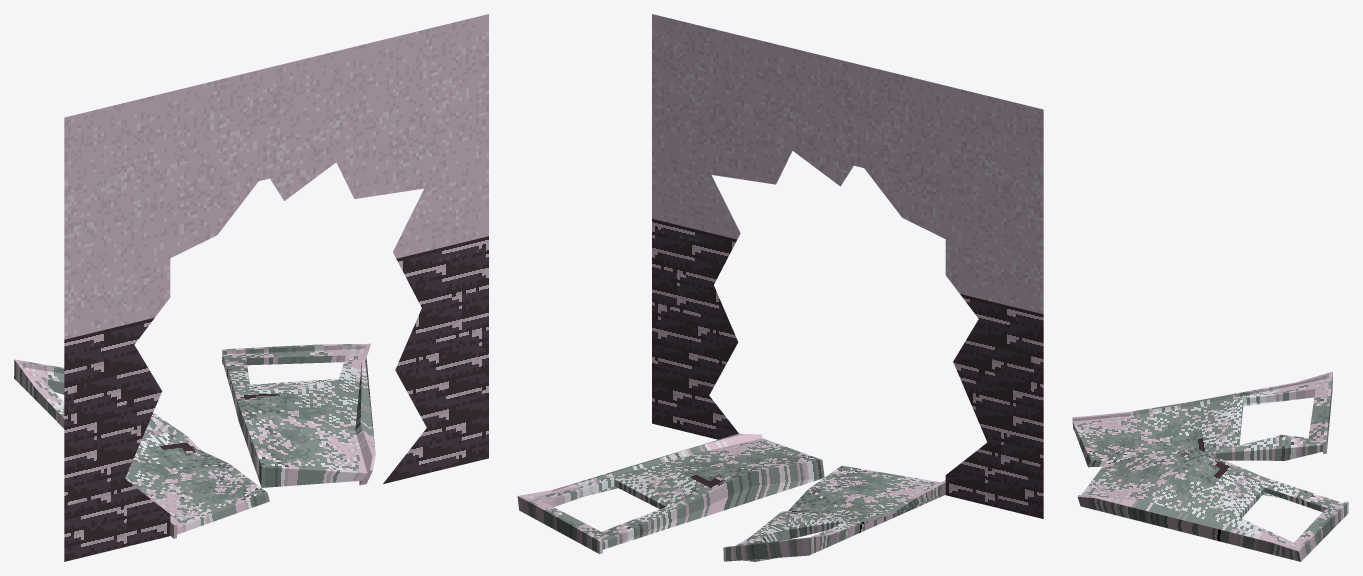
Rendered from CafeteriaDoorwayBroken.fbx.
The picture shows the model from 3 angles, left to right: view 1: azimuth 30°, elevation 25°; view 2: azimuth 150°, elevation 25°; view 3: azimuth 270°, elevation 25°; orthographic projection. The views are drawn at different scales.
Visible parts, largest first — view 1: Plane.011; view 2: Plane.011; view 3: Plane.011.
Boxes of the visible parts, x1,y1,x2,y2 form: Plane.011: [14, 14, 488, 561]; Plane.011: [517, 14, 1043, 561]; Plane.011: [1072, 371, 1348, 561].
Bounding box in the file's own units: 827 × 801 × 540.
